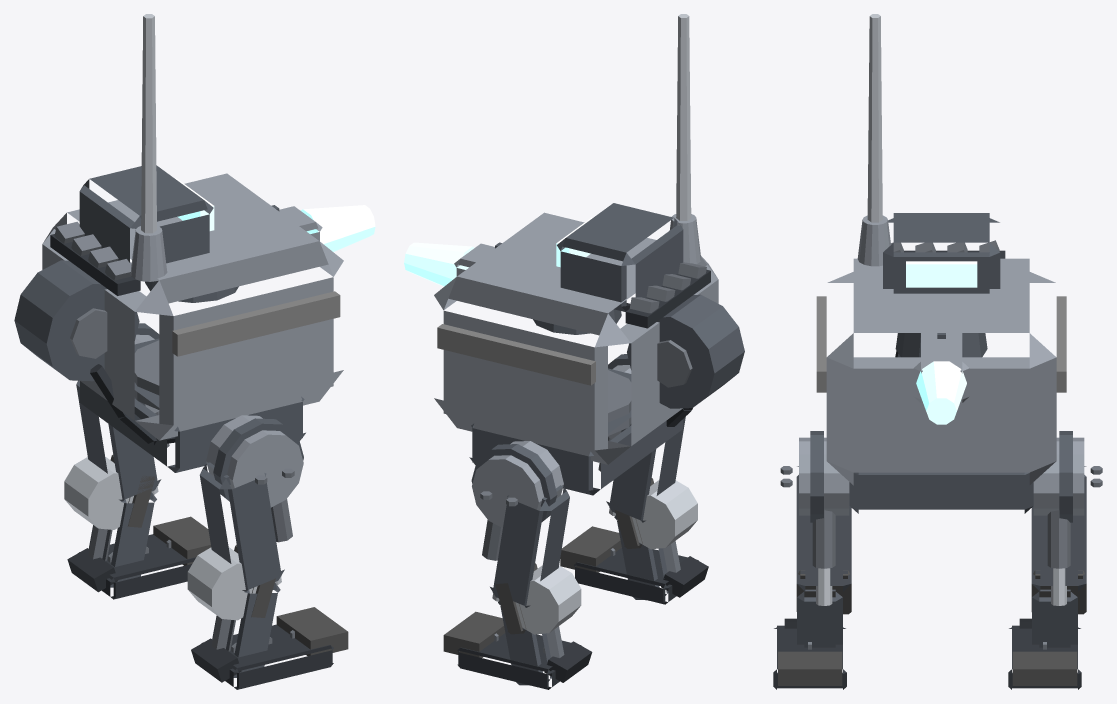
Rendered from conbot.glb.
3 renders of one model, left to right at view 1: azimuth 30°, elevation 25°; view 2: azimuth 150°, elevation 25°; view 3: azimuth 270°, elevation 25°, orthographic. The views are drawn at different scales.
Visible parts, largest first — view 1: body, leg_1_b, leg_0_a, turret; view 2: body, leg_0_a, leg_1_b, turret; view 3: body, leg_0_a, leg_1_b, turret.
Part boxes in pixels (left/top/right/bottom): body: left=14, top=14, right=343, bottom=472; leg_1_b: left=187, top=415, right=348, bottom=689; leg_0_a: left=64, top=323, right=211, bottom=599; turret: left=145, top=205, right=375, bottom=302; body: left=434, top=14, right=744, bottom=495; leg_0_a: left=443, top=441, right=592, bottom=689; leg_1_b: left=560, top=354, right=708, bottom=604; turret: left=404, top=242, right=621, bottom=334; body: left=816, top=14, right=1066, bottom=513; leg_0_a: left=1008, top=431, right=1102, bottom=689; leg_1_b: left=773, top=431, right=851, bottom=689; turret: left=895, top=333, right=987, bottom=424.
Bounding box in the file's own units: 14.5 × 26.77 × 12.9.
